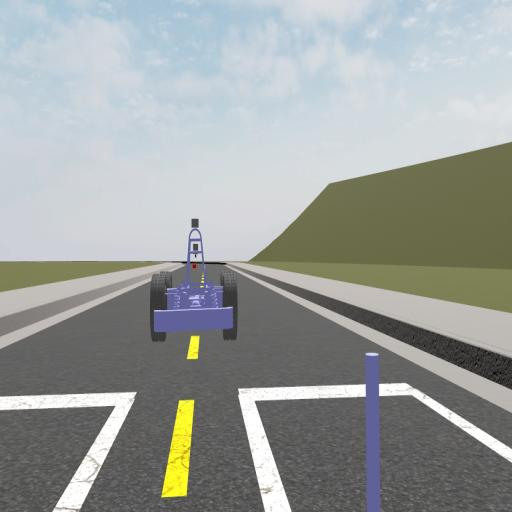ERP-42: (148, 218, 238, 342)
